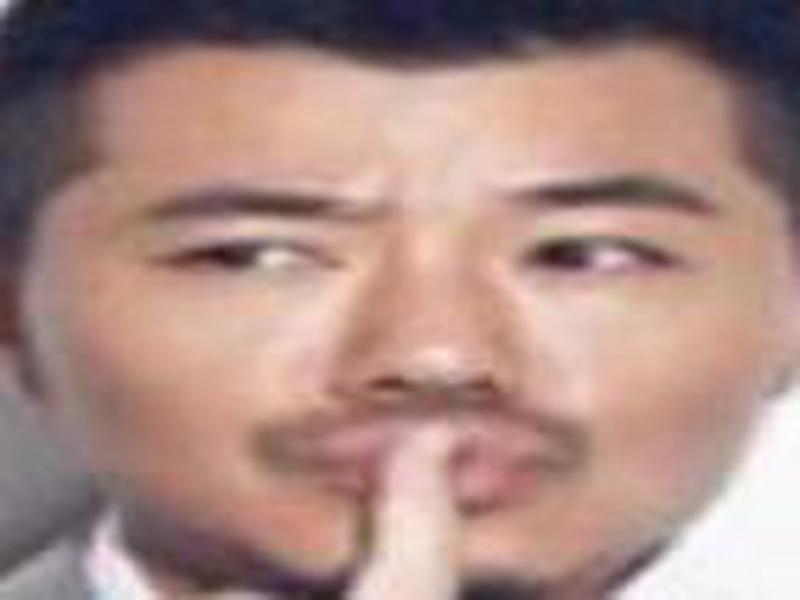without_mask: (25, 65, 783, 585)
